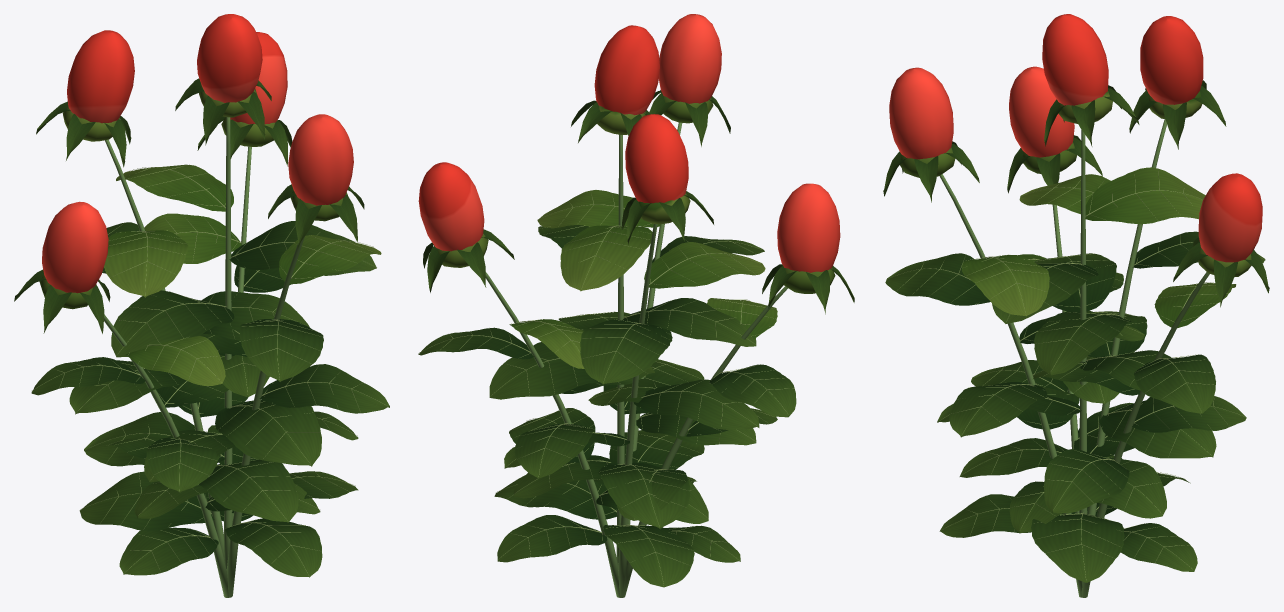
File: poppy-08.glb
3 renders of one model, left to right at view 1: azimuth 30°, elevation 25°; view 2: azimuth 150°, elevation 25°; view 3: azimuth 270°, elevation 25°, orthographic. The views are drawn at different scales.
Parts seen in each view (by area): view 1: poppy_stage_08_leaf_veins.014, poppy_stage_08_poppy_petal.014, poppy_stage_08_young_leaf.014, poppy_stage_08_stem_fibres.014, poppy_stage_08_raised_midveins.014; view 2: poppy_stage_08_leaf_veins.014, poppy_stage_08_poppy_petal.014, poppy_stage_08_young_leaf.014, poppy_stage_08_stem_fibres.014, poppy_stage_08_raised_midveins.014; view 3: poppy_stage_08_leaf_veins.014, poppy_stage_08_poppy_petal.014, poppy_stage_08_young_leaf.014, poppy_stage_08_stem_fibres.014, poppy_stage_08_raised_midveins.014.
Boxes of the visible parts, <box> form: poppy_stage_08_leaf_veins.014: <box>14,78,389,577</box>; poppy_stage_08_poppy_petal.014: <box>42,14,353,293</box>; poppy_stage_08_young_leaf.014: <box>39,85,381,385</box>; poppy_stage_08_stem_fibres.014: <box>104,117,304,597</box>; poppy_stage_08_raised_midveins.014: <box>32,164,388,576</box>; poppy_stage_08_leaf_veins.014: <box>418,90,854,587</box>; poppy_stage_08_poppy_petal.014: <box>418,14,840,272</box>; poppy_stage_08_young_leaf.014: <box>434,92,835,368</box>; poppy_stage_08_stem_fibres.014: <box>485,122,787,597</box>; poppy_stage_08_raised_midveins.014: <box>418,191,794,585</box>; poppy_stage_08_leaf_veins.014: <box>883,80,1269,582</box>; poppy_stage_08_poppy_petal.014: <box>889,14,1262,262</box>; poppy_stage_08_young_leaf.014: <box>900,91,1251,328</box>; poppy_stage_08_stem_fibres.014: <box>939,119,1209,597</box>; poppy_stage_08_raised_midveins.014: <box>887,169,1264,580</box>.
Size of the model in its own units: 0.3675 by 0.5662 by 0.3432.
Materials: 5 (3 with a texture image).
